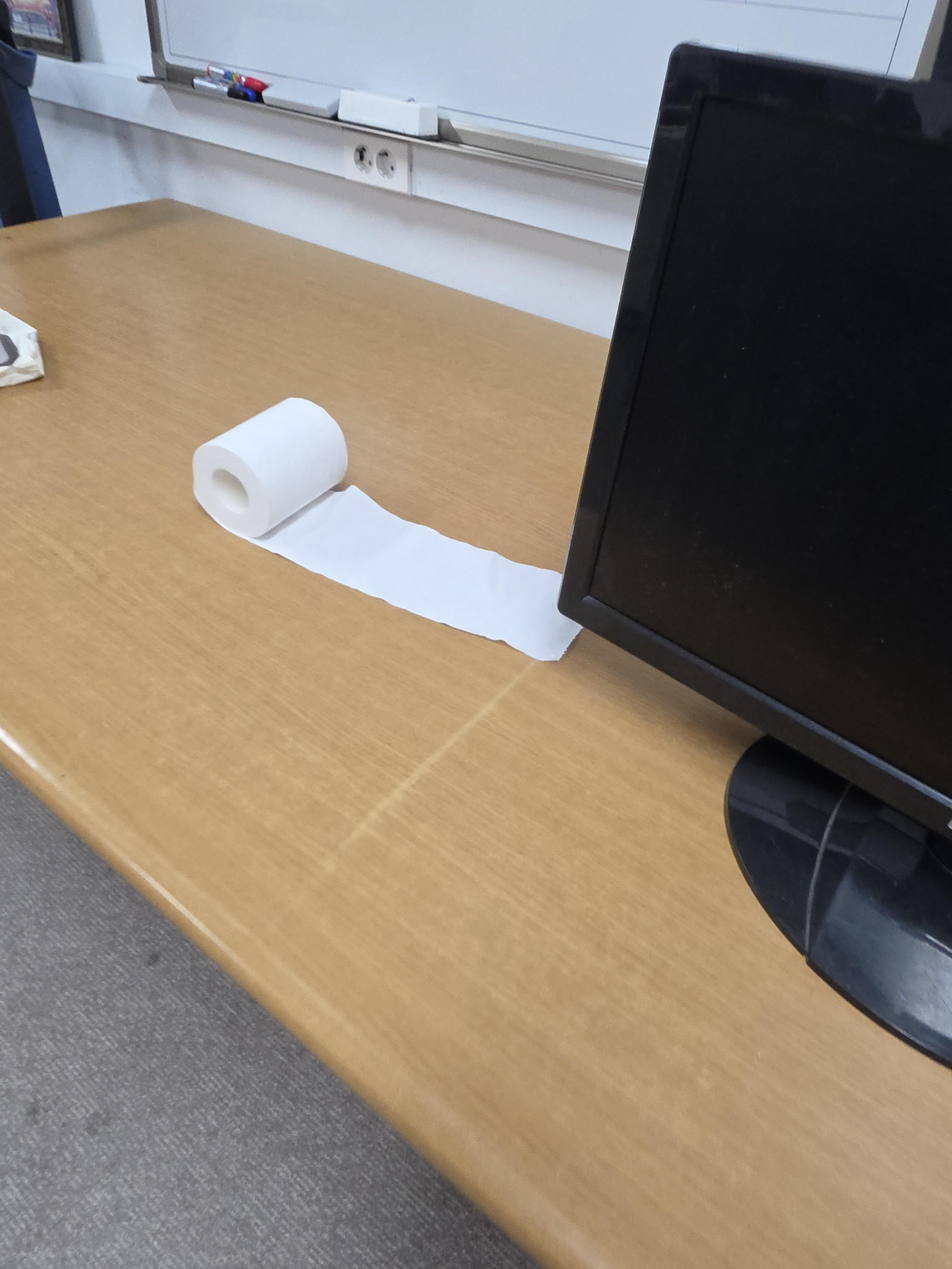tissue: (192, 397, 583, 662)
